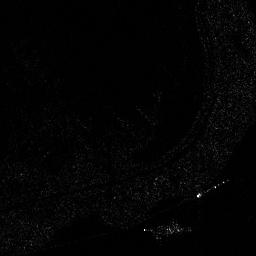ship: (195, 177, 233, 198)
